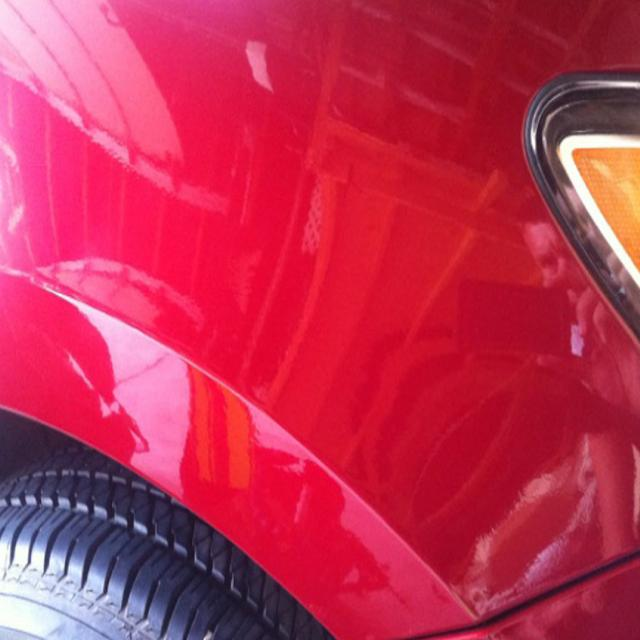dents: (454, 446, 619, 616)
